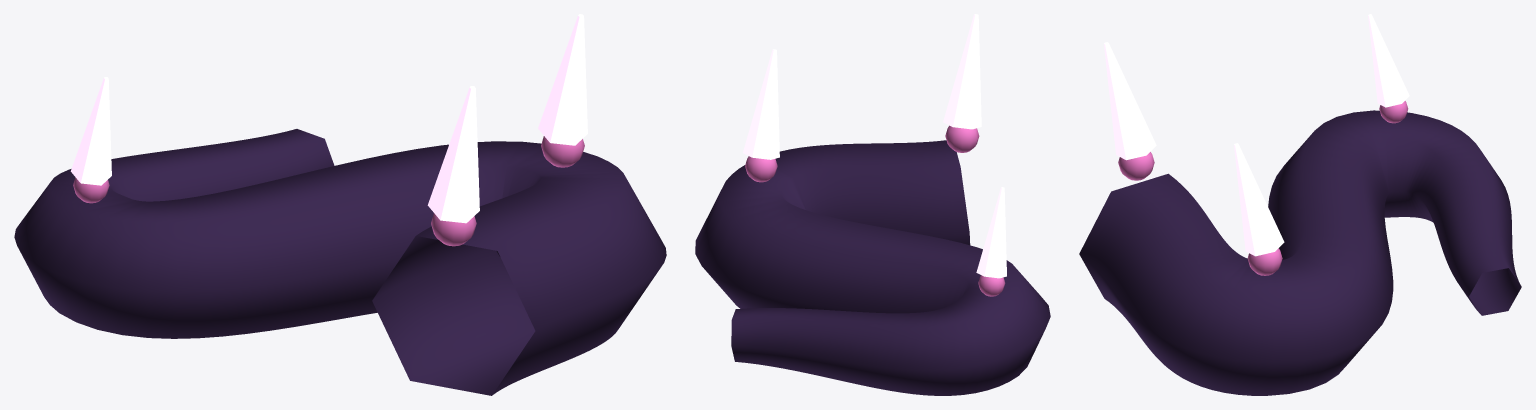
File: SM_Keeper_Apep_Body_F03.fbx
The picture shows the model from 3 angles, left to right: view 1: azimuth 30°, elevation 25°; view 2: azimuth 150°, elevation 25°; view 3: azimuth 270°, elevation 25°; orthographic projection. The views are drawn at different scales.
Visible parts, largest first — view 1: SM_Keeper_Apep_Body_F03; view 2: SM_Keeper_Apep_Body_F03; view 3: SM_Keeper_Apep_Body_F03.
Part boxes in pixels (x1,y1,x2,y2): SM_Keeper_Apep_Body_F03: [14, 14, 666, 395]; SM_Keeper_Apep_Body_F03: [695, 14, 1050, 395]; SM_Keeper_Apep_Body_F03: [1079, 14, 1521, 395].
Bounding box in the file's own units: 7.1 × 4.37 × 6.54.
